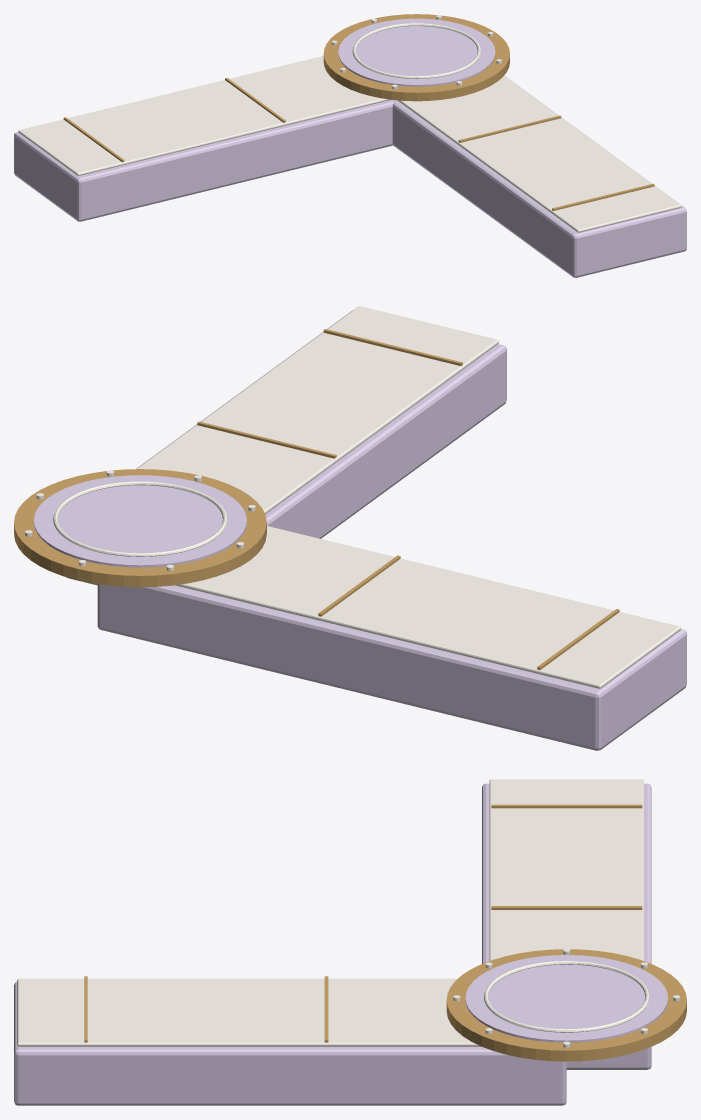
Rendered from bridge_lavender.glb.
3 renders of one model, top to bottom at view 1: azimuth 30°, elevation 25°; view 2: azimuth 150°, elevation 25°; view 3: azimuth 270°, elevation 25°, orthographic. The views are drawn at different scales.
Visible parts, largest first — view 1: West marble, West bridge, South marble, South bridge, Disc inlay, Disc rim, Disc fine line; view 2: West bridge, West marble, South marble, South bridge, Disc inlay, Disc rim, Disc fine line, Walking joint.001, Walking joint.003; view 3: South bridge, South marble, West marble, Disc inlay, Disc rim, West bridge, Disc fine line, Walking joint.002, Walking joint.
Boxes of the visible parts, x1,y1,x2,y2 form: West marble: (18, 56, 390, 175); West bridge: (14, 100, 396, 221); South marble: (397, 76, 681, 232); South bridge: (392, 76, 686, 277); Disc inlay: (338, 18, 495, 86); Disc rim: (323, 14, 509, 101); Disc fine line: (352, 23, 481, 78); West bridge: (97, 584, 686, 750); West marble: (176, 526, 680, 688); South marble: (136, 306, 498, 514); South bridge: (66, 310, 506, 585); Disc inlay: (34, 475, 246, 567); Disc rim: (14, 469, 266, 587); Disc fine line: (53, 481, 227, 556); Walking joint.001: (197, 421, 336, 458); Walking joint.003: (323, 329, 462, 365); South bridge: (14, 981, 566, 1105); South marble: (17, 978, 480, 1046); West marble: (489, 779, 643, 960); Disc inlay: (465, 955, 667, 1042); Disc rim: (446, 949, 686, 1061); West bridge: (482, 783, 651, 1069); Disc fine line: (484, 961, 649, 1032); Walking joint.002: (491, 804, 642, 808); Walking joint: (491, 906, 642, 909).
Size of the model in its own units: 3.92 by 0.491 by 3.92.
